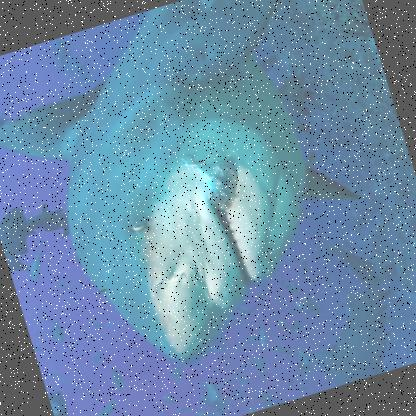bulldog-shark: (0, 0, 400, 400)
